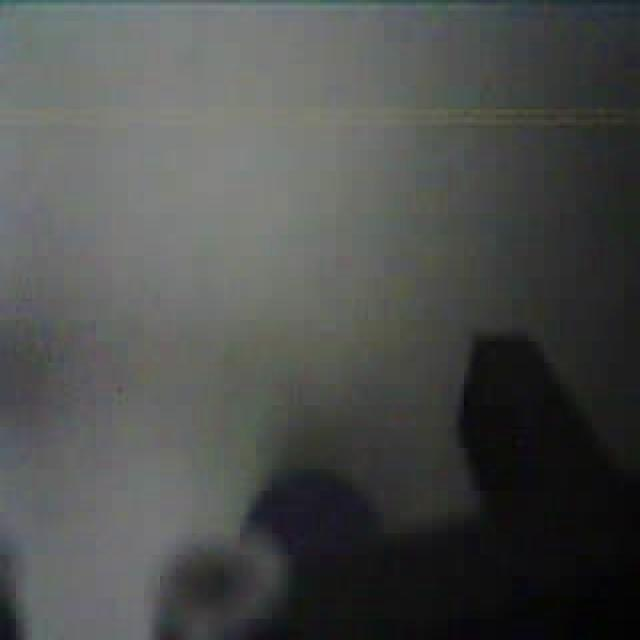blue_ball: (242, 444, 400, 606)
blue_box: (2, 5, 640, 640)
